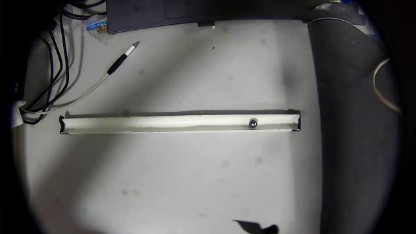gangzhu: (247, 117, 258, 130)
